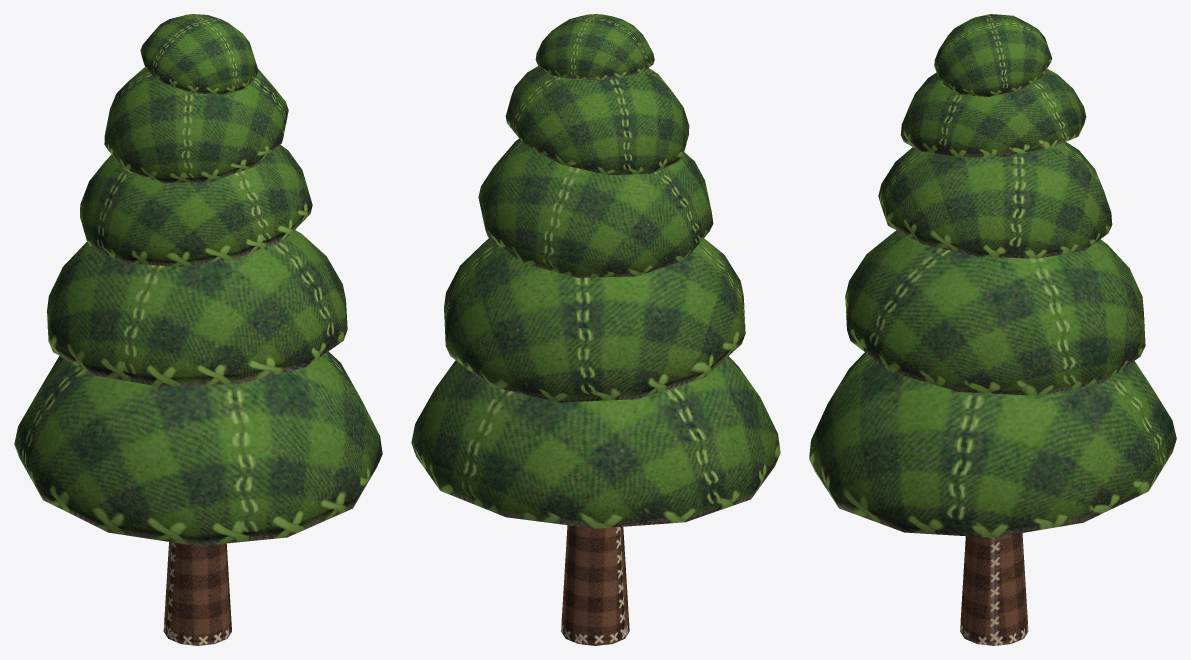
The model's file is lpb_cs_tree7.fbx.
3 views of the same model, side by side, from view 1: azimuth 30°, elevation 25°; view 2: azimuth 150°, elevation 25°; view 3: azimuth 270°, elevation 25° (orthographic).
Visible parts, largest first — view 1: lpb_cs_tree7; view 2: lpb_cs_tree7; view 3: lpb_cs_tree7.
Part boxes in pixels (left/top/right/bottom): lpb_cs_tree7: left=14, top=14, right=382, bottom=645; lpb_cs_tree7: left=411, top=14, right=780, bottom=645; lpb_cs_tree7: left=809, top=14, right=1176, bottom=645.
Size of the model in its own units: 113 by 207 by 113.
